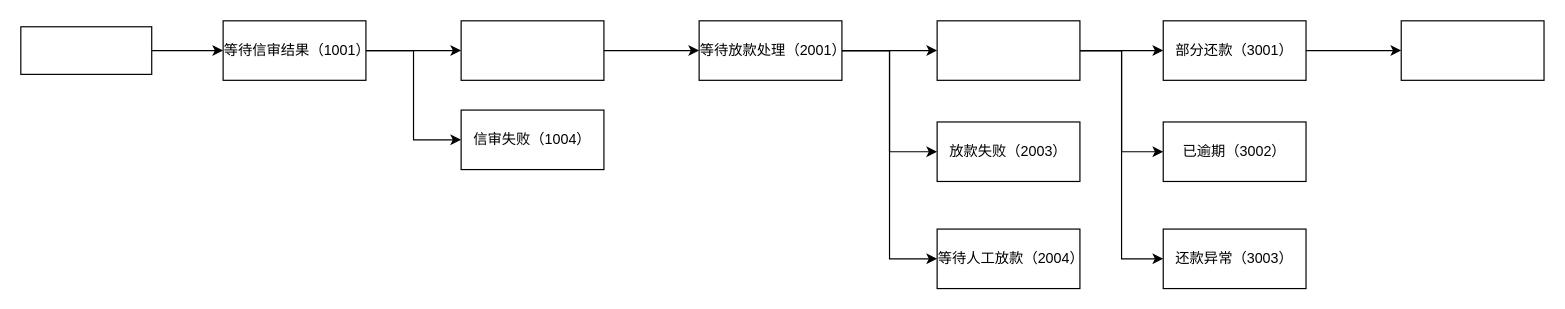
The diagram is 1565 pixels wide and 309 high, and some of its shapes have lost their labels. The shapes that lost their labels are listed below. From the top down, each one's box as (x1, y1, x2, y2) in pixels, then its label:
(20, 26, 152, 74): 新申请（0）
(460, 20, 604, 80): 申请通过，未放款（1002）
(936, 20, 1080, 80): 已放款，等待还款（2002）
(1400, 20, 1544, 80): 已完成（4001）
